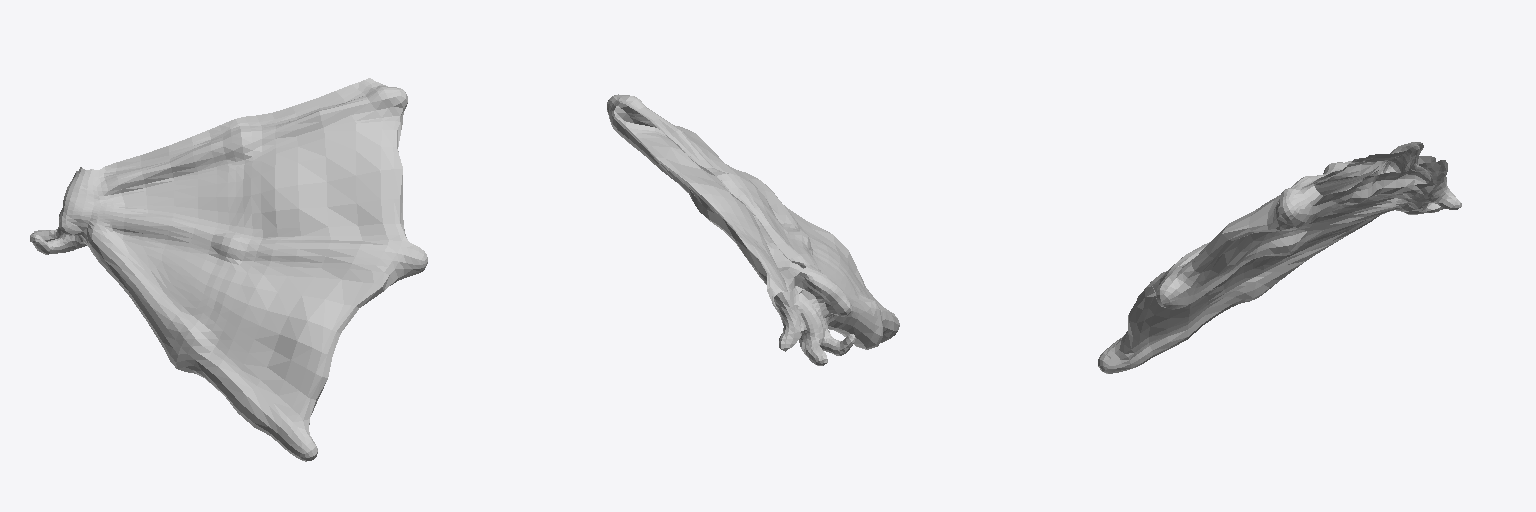
The model's file is AlaA2.obj.
The picture shows the model from 3 angles: view 1: azimuth 30°, elevation 25°; view 2: azimuth 150°, elevation 25°; view 3: azimuth 270°, elevation 25°; orthographic projection.
Visible parts, largest first — view 1: 17174_Tiamat_new.004; view 2: 17174_Tiamat_new.004; view 3: 17174_Tiamat_new.004.
Boxes of the visible parts, <box> form: 17174_Tiamat_new.004: <box>30,78,427,461</box>; 17174_Tiamat_new.004: <box>607,94,899,365</box>; 17174_Tiamat_new.004: <box>1098,142,1461,373</box>.
Bounding box in the file's own units: 6.31 × 5.19 × 6.4.